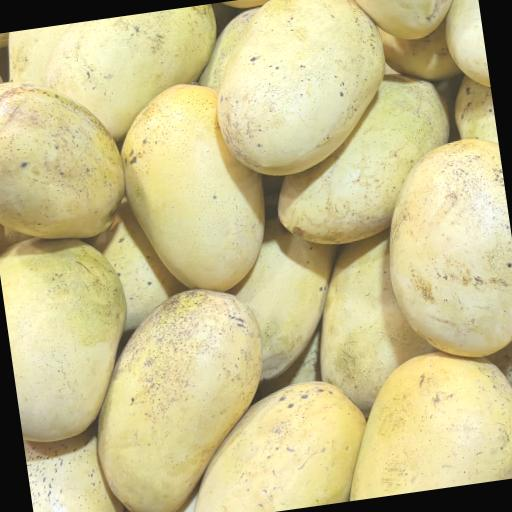fruit: (72, 275, 294, 512), (250, 70, 458, 257), (195, 0, 403, 182), (0, 229, 152, 454), (0, 6, 226, 148), (330, 328, 512, 501), (173, 365, 387, 512), (384, 131, 512, 367), (0, 55, 147, 252), (207, 207, 349, 392), (70, 196, 182, 348), (22, 412, 124, 512), (434, 67, 500, 160), (370, 18, 460, 86), (342, 0, 454, 50), (434, 0, 489, 82), (492, 375, 512, 479), (217, 0, 276, 18), (0, 39, 10, 102)
